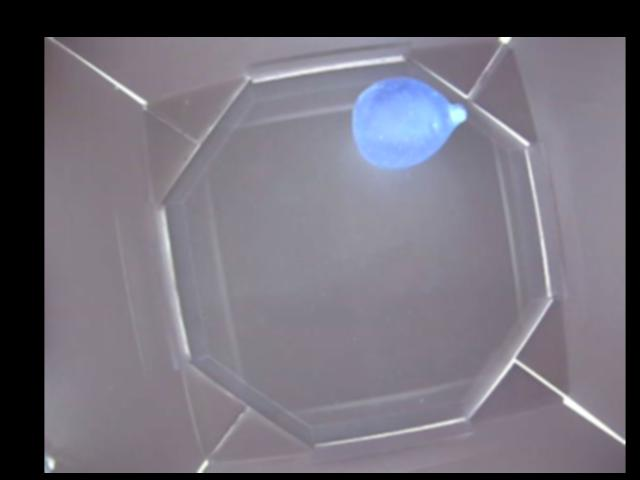Potato: (353, 77, 465, 168)
